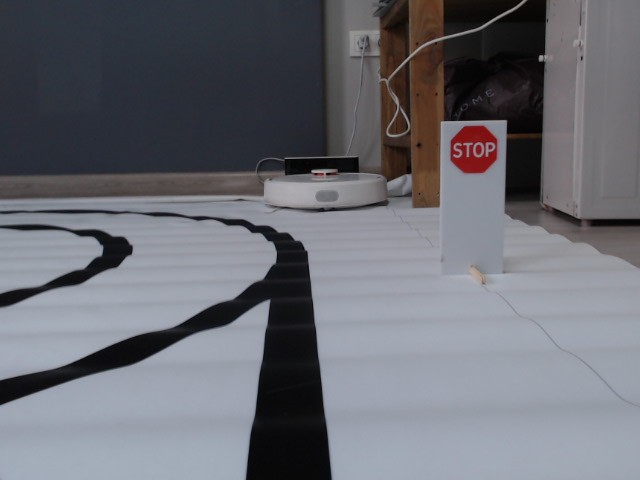Stop: (447, 125, 501, 173)
